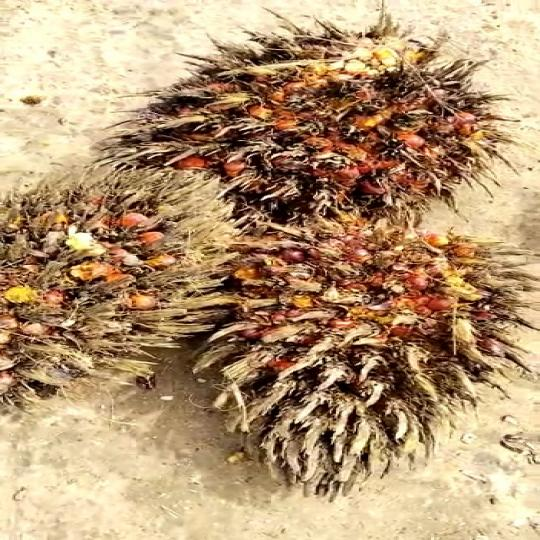terlalu masak: (162, 214, 510, 497), (146, 23, 511, 210), (0, 164, 238, 396)
